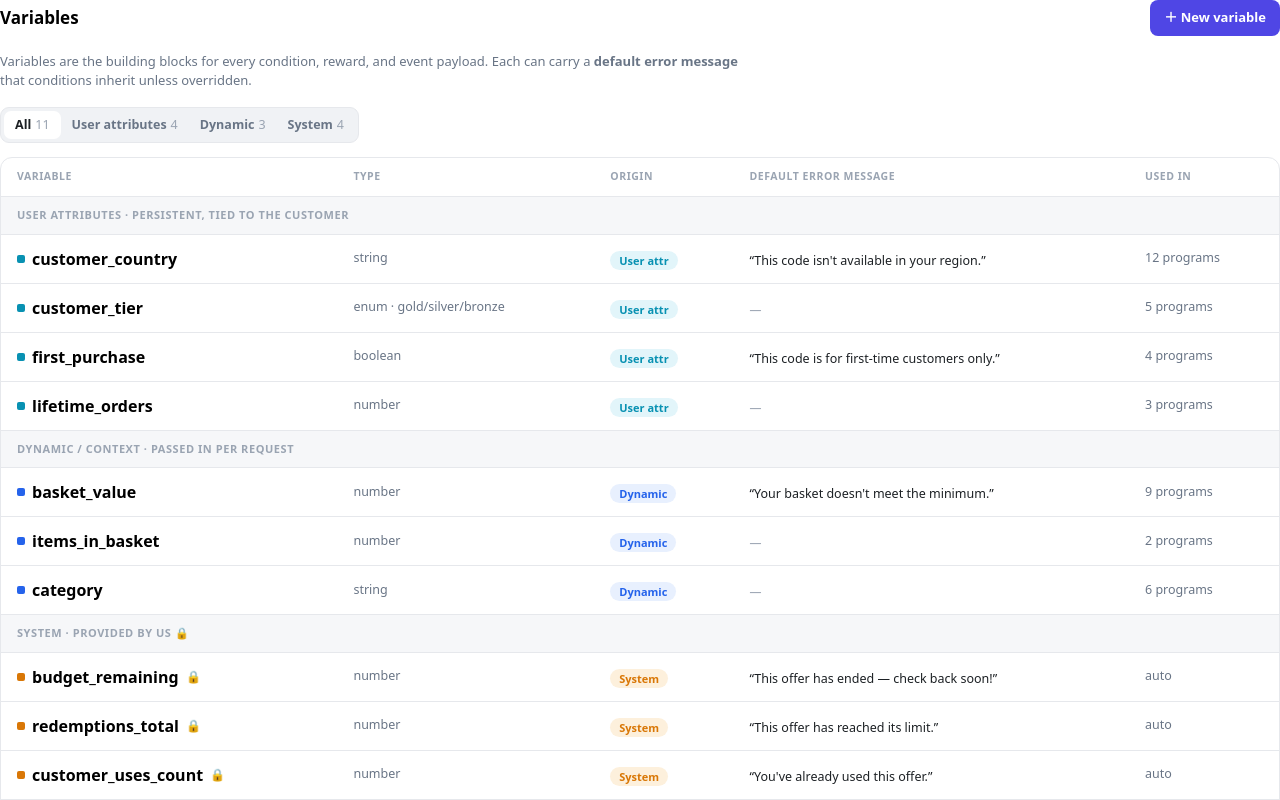
selecting System filter shows system vars and hides user/dynamic
// Click the System filter button (accessible name includes the count text too)
Click the button "System4". click: (316,125)
box: 276,110 -> 355,139
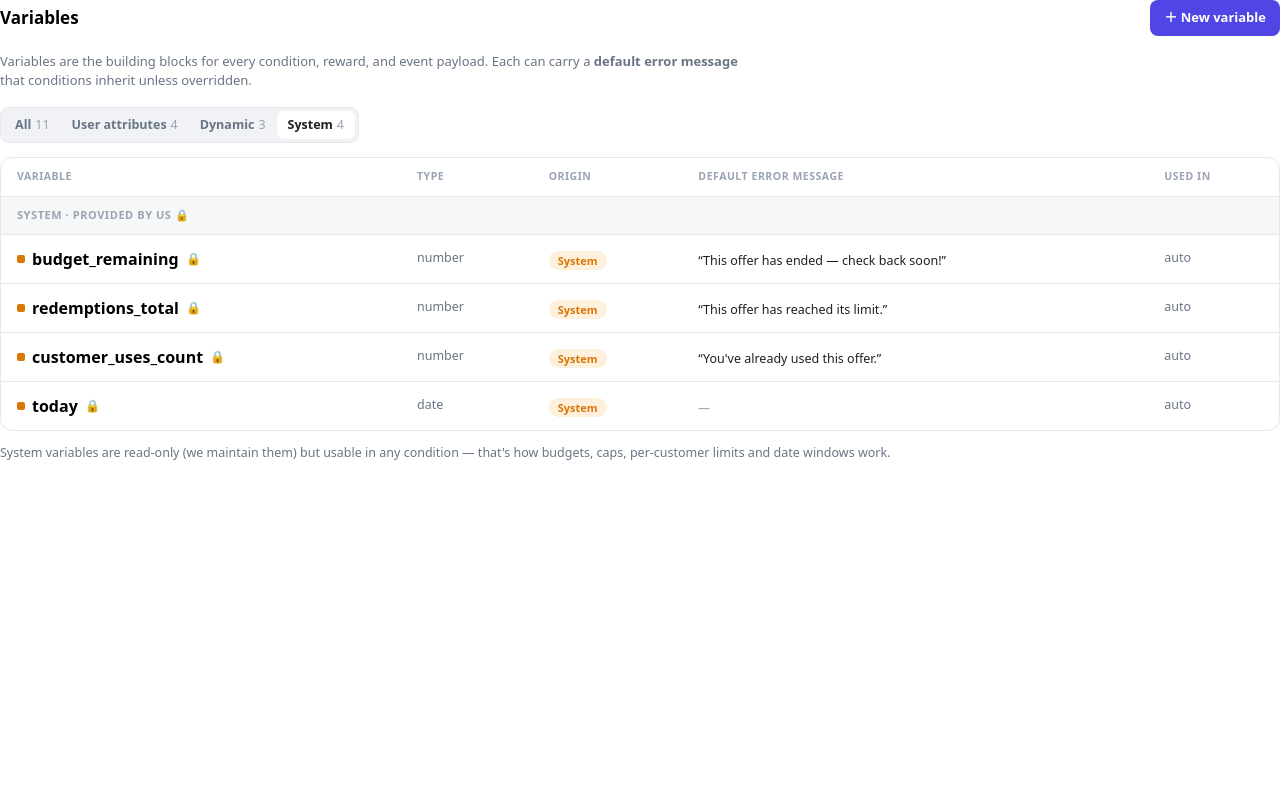
Expected: the text "budget_remaining" is shown, 32,248 -> 179,270
Expected: the button "customer_country" is gone
Expected: the button "basket_value" is gone
